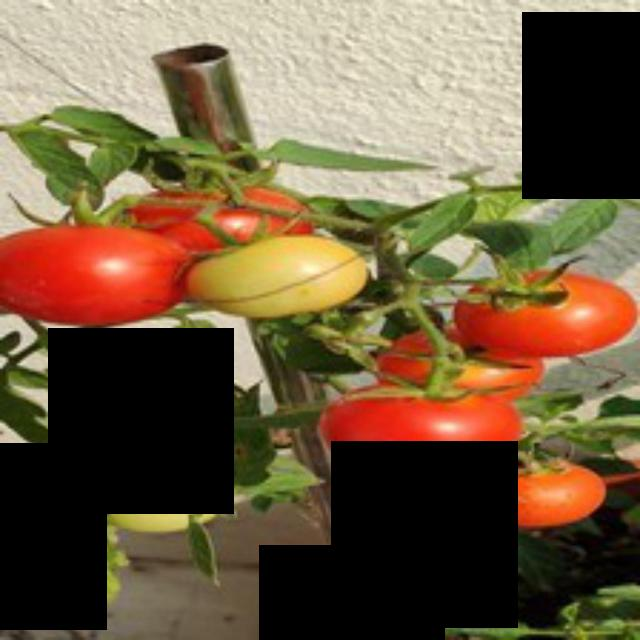tomato: (0, 213, 190, 331), (325, 375, 523, 477), (456, 260, 640, 366)
